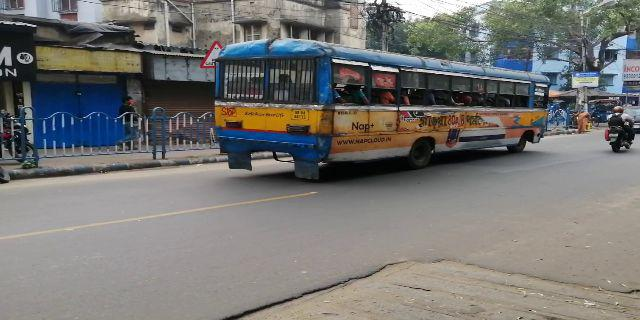Bus: (214, 46, 553, 156)
Motorbike: (604, 108, 634, 151)
